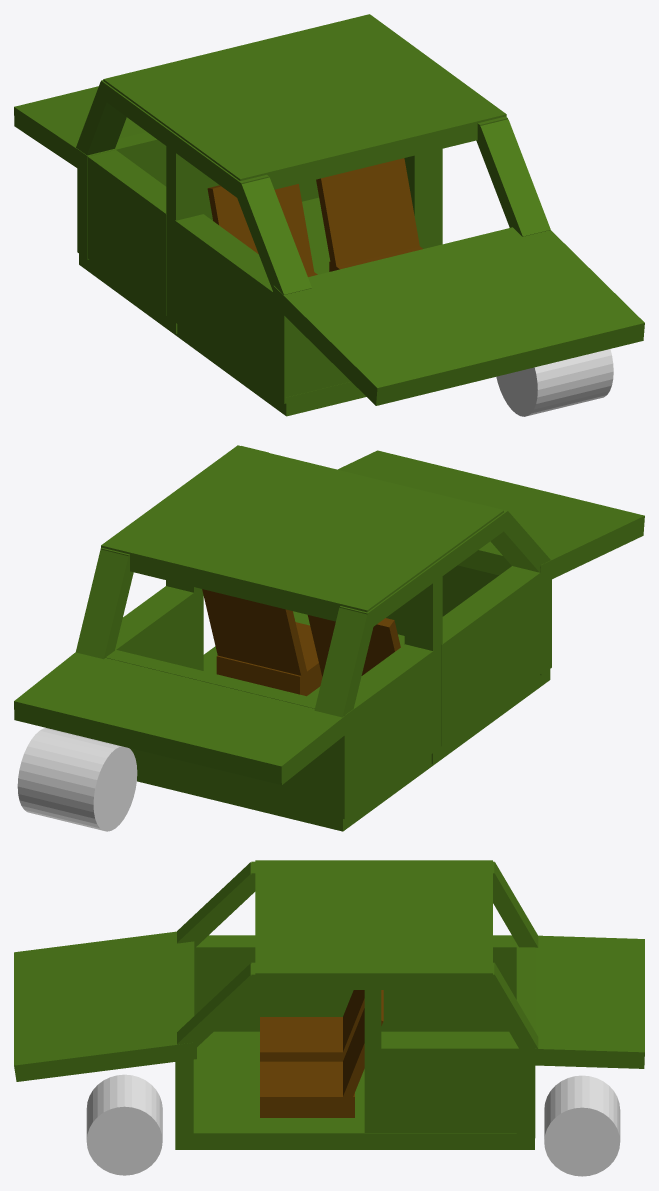
The model's file is car.gltf.
The picture shows the model from 3 angles, top to bottom: view 1: azimuth 30°, elevation 25°; view 2: azimuth 150°, elevation 25°; view 3: azimuth 270°, elevation 25°; orthographic projection. The views are drawn at different scales.
Parts seen in each view (by area): view 1: Cube.001, Cube.020, Cube.015, Cube.014, Cube.017, Cube, Cylinder, Cube.012, Cube.005, Cube.004, Cube.003, Cube.002 (+5 smaller); view 2: Cube.020, Cube.004, Cube.001, Cube.015, Cube.014, Cube.002, Cylinder.001, Cube, Cube.017, Cube.013, Cube.010, Cube.007 (+7 smaller); view 3: Cube.020, Cube.001, Cube, Cube.004, Cube.013, Cylinder.001, Cylinder, Cube.015, Cube.014, Cube.016, Cube.019, Cube.002 (+8 smaller).
Part boxes in pixels (left/top/right/bottom): Cube.001: left=272, top=227, right=644, bottom=405; Cube.020: left=103, top=14, right=506, bottom=189; Cube.015: left=174, top=214, right=273, bottom=394; Cube.014: left=88, top=150, right=166, bottom=315; Cube.017: left=316, top=158, right=419, bottom=270; Cube: left=79, top=197, right=366, bottom=416; Cylinder: left=496, top=349, right=613, bottom=416; Cube.012: left=237, top=177, right=311, bottom=294; Cube.005: left=476, top=119, right=550, bottom=236; Cube.004: left=14, top=86, right=146, bottom=168; Cube.003: left=274, top=293, right=350, bottom=403; Cube.002: left=77, top=132, right=318, bottom=259; Cube.020: left=101, top=445, right=503, bottom=621; Cube.004: left=14, top=652, right=345, bottom=785; Cube.001: left=338, top=450, right=644, bottom=584; Cube.015: left=441, top=566, right=541, bottom=746; Cube.014: left=354, top=644, right=433, bottom=809; Cube.002: left=105, top=649, right=355, bottom=819; Cylinder.001: left=17, top=728, right=137, bottom=831; Cube: left=137, top=611, right=550, bottom=831; Cube.017: left=202, top=589, right=306, bottom=686; Cube.013: left=115, top=586, right=194, bottom=668; Cube.010: left=314, top=607, right=375, bottom=717; Cube.007: left=76, top=549, right=133, bottom=659; Cube.020: left=255, top=860, right=492, bottom=989; Cube.001: left=14, top=931, right=196, bottom=1081; Cube: left=175, top=1031, right=534, bottom=1149; Cube.004: left=534, top=935, right=644, bottom=1068; Cube.013: left=381, top=1036, right=516, bottom=1132; Cylinder.001: left=544, top=1075, right=620, bottom=1176; Cylinder: left=86, top=1074, right=162, bottom=1175; Cube.015: left=195, top=935, right=353, bottom=1031; Cube.014: left=381, top=935, right=516, bottom=1031; Cube.016: left=260, top=1061, right=354, bottom=1117; Cube.019: left=260, top=1017, right=346, bottom=1061; Cube.002: left=516, top=944, right=535, bottom=1137.
Bounding box in the file's own units: 7.33 × 5.78 × 16.6.
